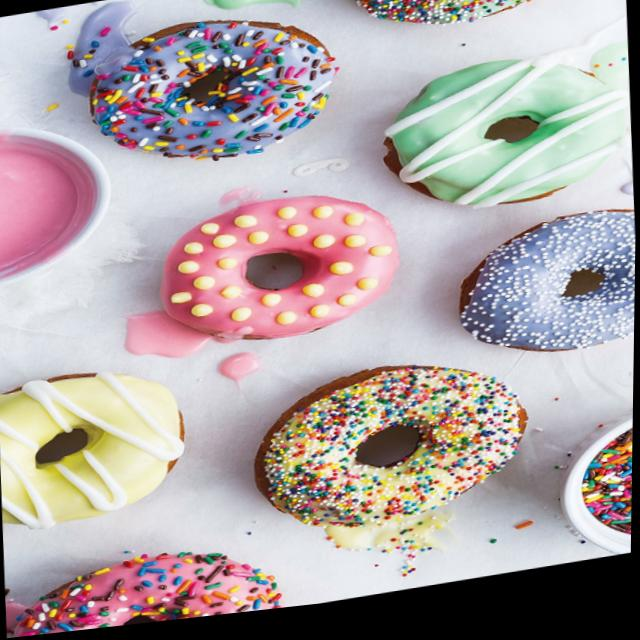donut: (251, 353, 536, 549), (377, 51, 636, 233), (89, 5, 340, 182), (160, 186, 406, 363), (0, 357, 191, 533), (447, 215, 637, 380), (15, 536, 295, 638), (325, 0, 606, 51)
